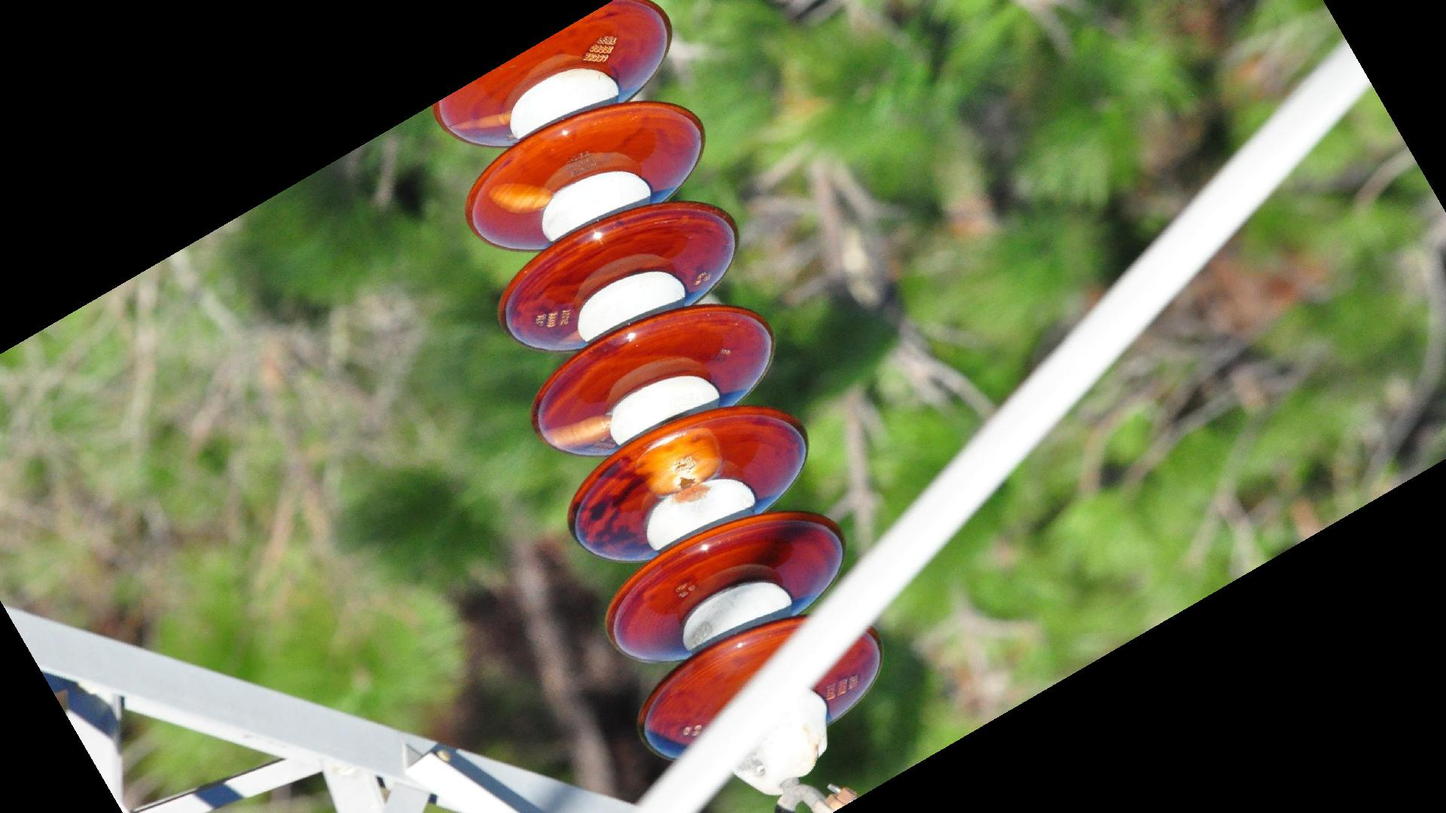insulator: (424, 1, 888, 771)
insulator_flashover: (628, 424, 727, 498), (540, 411, 614, 453), (484, 180, 556, 216), (448, 108, 514, 133)
